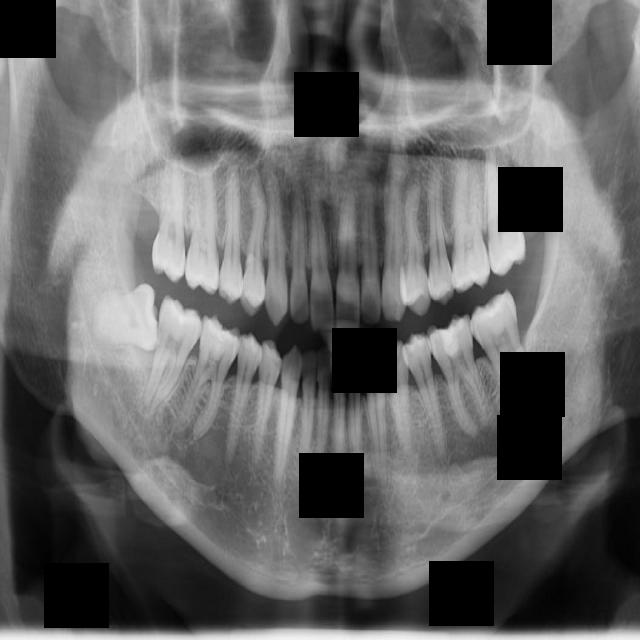73: (626, 620, 634, 626)
BioHorizons Implant: (480, 133, 528, 278)
Blue Sky Bio Implant: (464, 288, 538, 414)
Caries: (151, 130, 191, 284)
Implant: (140, 293, 206, 418)
Keystone Dental Implant: (89, 282, 164, 358)
